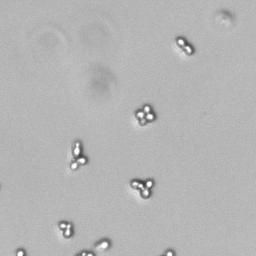budding: (172, 32, 197, 60), (57, 219, 74, 240), (93, 238, 112, 253)
cluster: (66, 140, 91, 172), (129, 176, 157, 201), (133, 104, 157, 127)
